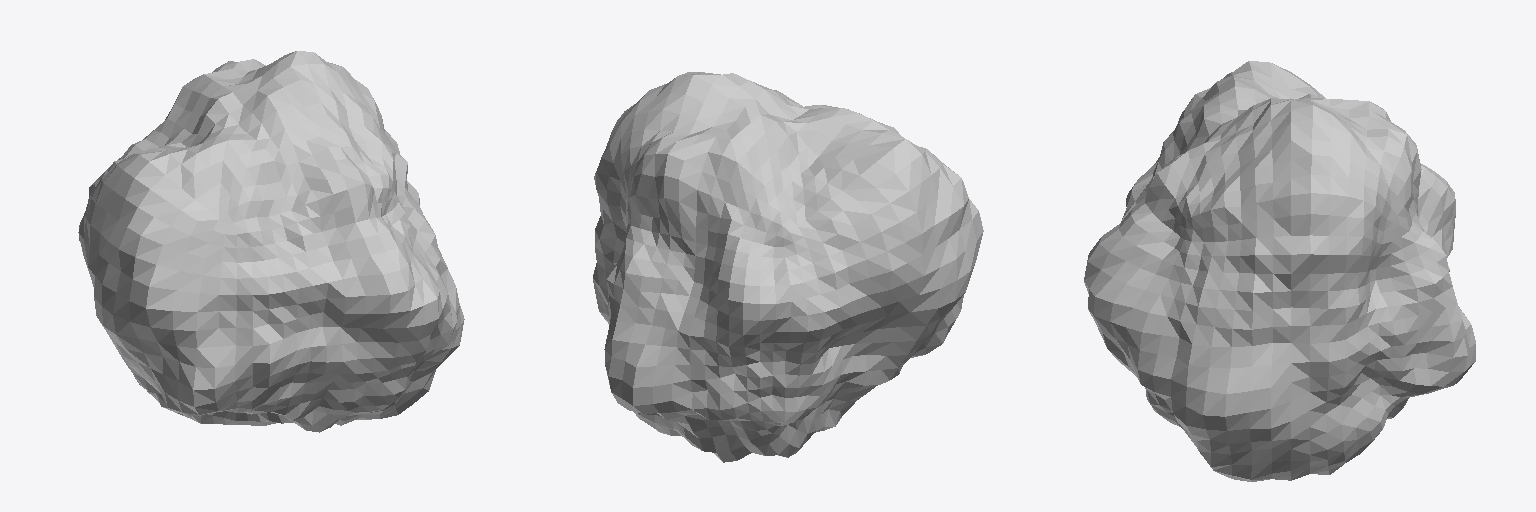
Rendered from asteroid.obj.
3 renders of one model, left to right at view 1: azimuth 30°, elevation 25°; view 2: azimuth 150°, elevation 25°; view 3: azimuth 270°, elevation 25°, orthographic.
Visible parts, largest first — view 1: Cube; view 2: Cube; view 3: Cube.
Part boxes in pixels (x1,y1,x2,y2): Cube: (78, 51, 464, 432); Cube: (593, 72, 983, 462); Cube: (1084, 61, 1475, 481).
Bounding box in the file's own units: 0.9755 × 0.9662 × 0.9597.